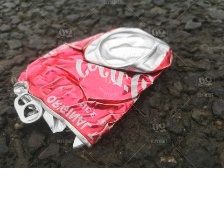can: (9, 23, 175, 154)
